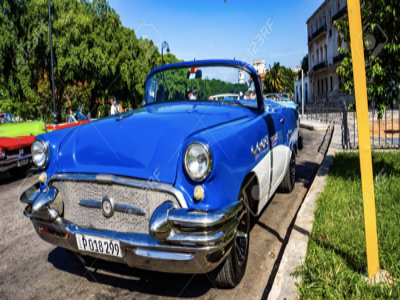licence: (75, 231, 125, 260)
